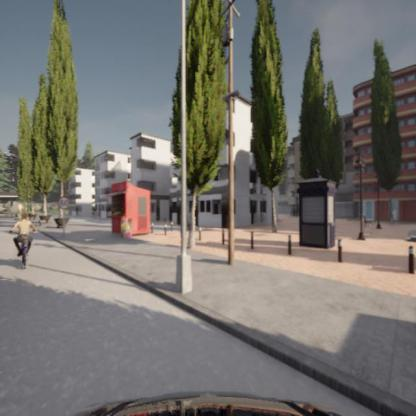bike: (10, 211, 38, 268)
traffic_sign_60: (58, 196, 69, 209)
